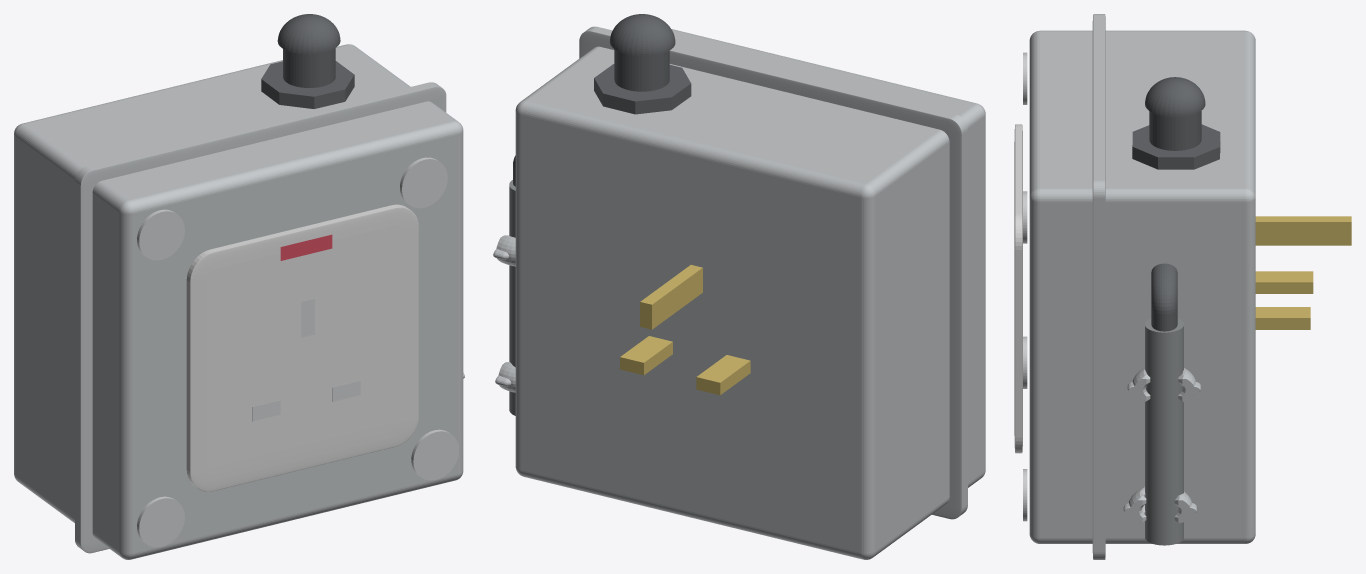
File: plugo.glb
3 renders of one model, left to right at view 1: azimuth 30°, elevation 25°; view 2: azimuth 150°, elevation 25°; view 3: azimuth 270°, elevation 25°, orthographic. The views are drawn at different scales.
Parts seen in each view (by area): view 1: Mesh_Mesh_head_geo.001_lambert2SG.001; view 2: Mesh_Mesh_head_geo.001_lambert2SG.001; view 3: Mesh_Mesh_head_geo.001_lambert2SG.001.
Boxes of the visible parts, box(x1,y1,x2,y2) form: Mesh_Mesh_head_geo.001_lambert2SG.001: box(14, 14, 464, 559); Mesh_Mesh_head_geo.001_lambert2SG.001: box(493, 14, 985, 559); Mesh_Mesh_head_geo.001_lambert2SG.001: box(1014, 14, 1351, 559).
Size of the model in its own units: 0.035 by 0.037 by 0.0259.
